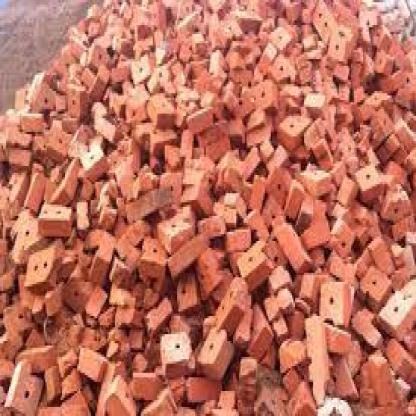brick: (1, 2, 414, 414)
